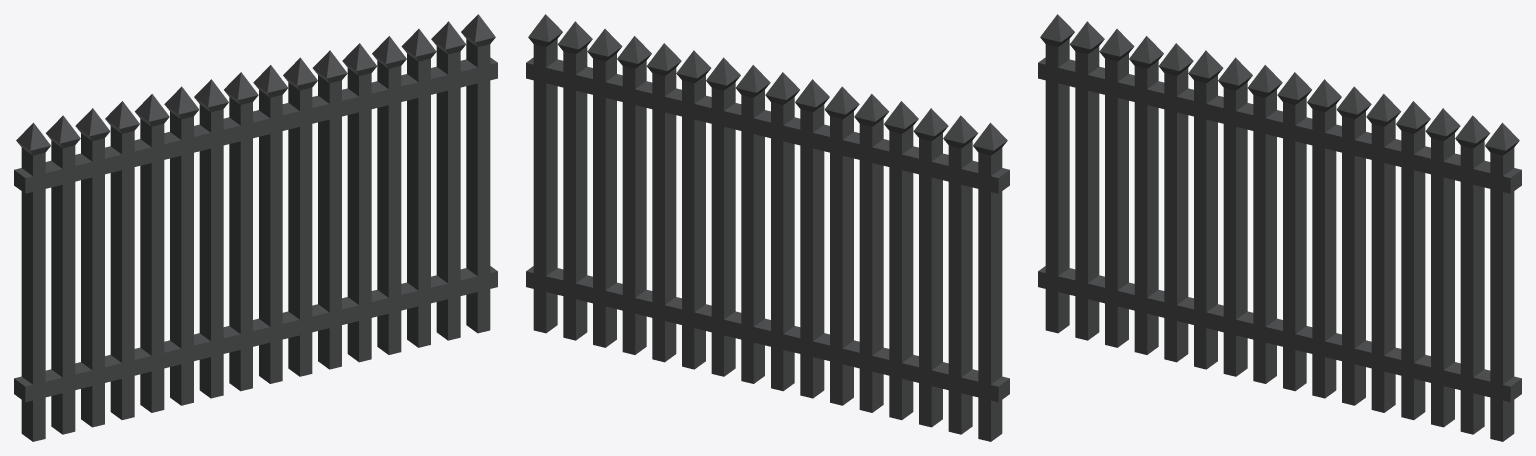
The model's file is cf979d66-460c-4dbd-803a-dd1248f2e4a5.glb.
3 renders of one model, left to right at view 1: azimuth 30°, elevation 25°; view 2: azimuth 150°, elevation 25°; view 3: azimuth 330°, elevation 25°, orthographic.
Visible parts, largest first — view 1: WroughtIronFence; view 2: WroughtIronFence; view 3: WroughtIronFence.
Part boxes in pixels (<box>): WroughtIronFence: <box>14,14,497,441</box>; WroughtIronFence: <box>526,14,1009,441</box>; WroughtIronFence: <box>1038,14,1521,441</box>.
Size of what is drawn, in the model's own units: 2.4 by 1.52 by 0.1249.
Materials: 1 (1 with a texture image).
